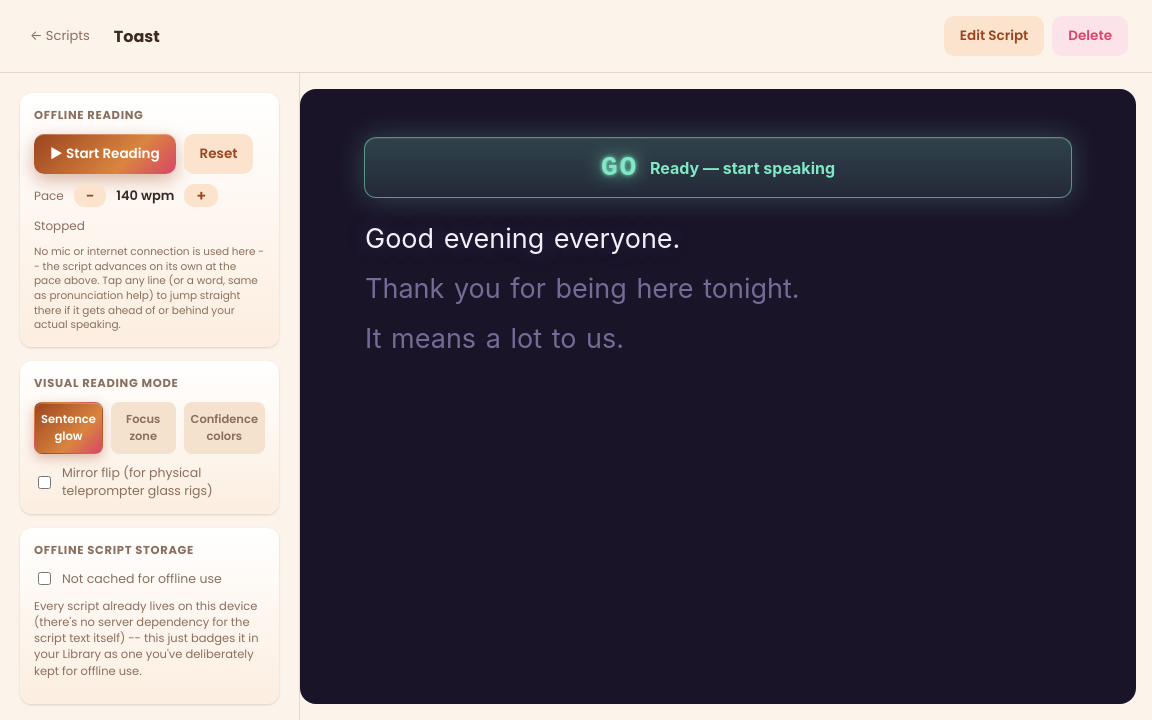
ScriptWorkspace offline reading › advances the cursor over time at the set pace once started, with no mic/network involved
Click the button "▶ Start Reading".
click(105, 154)  # box [34, 134, 176, 174]
Wait 6000 ms
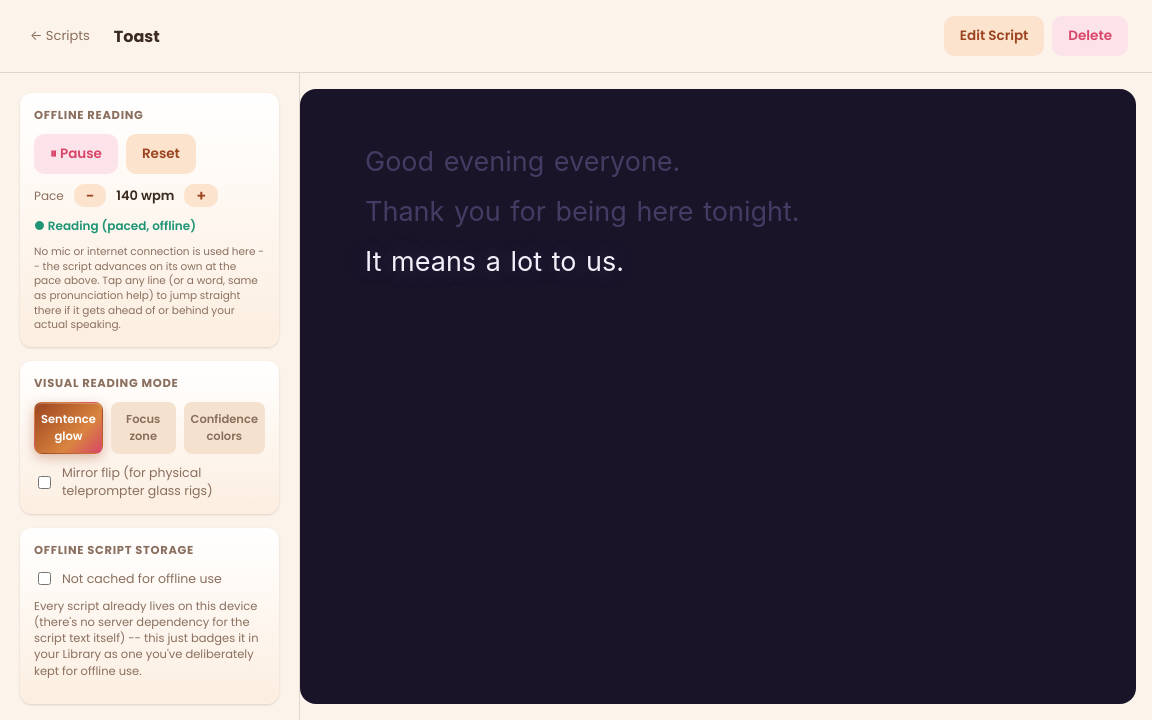
Check: the text "● Reading (paced, offline)" is shown, box [34, 217, 196, 234]
